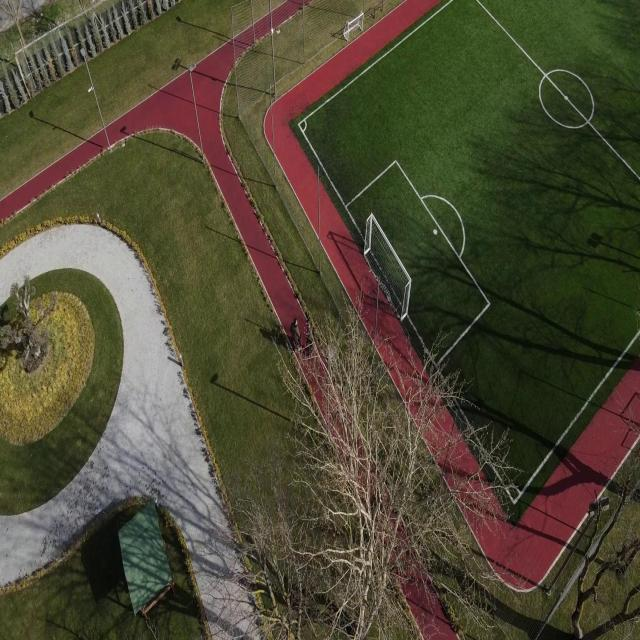p3rson: (290, 317, 302, 353)
